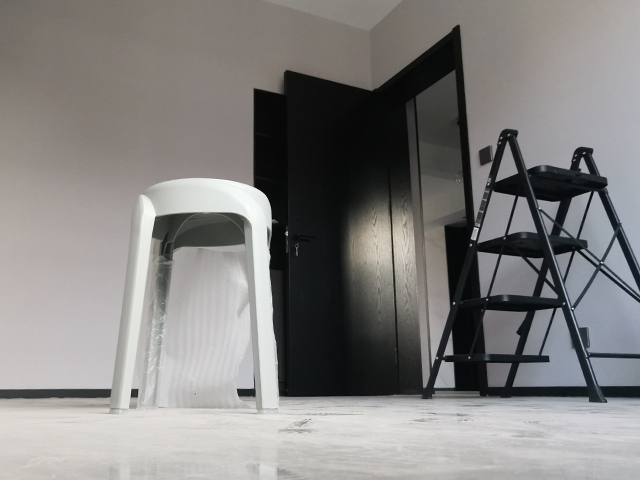stool: (106, 175, 284, 417)
